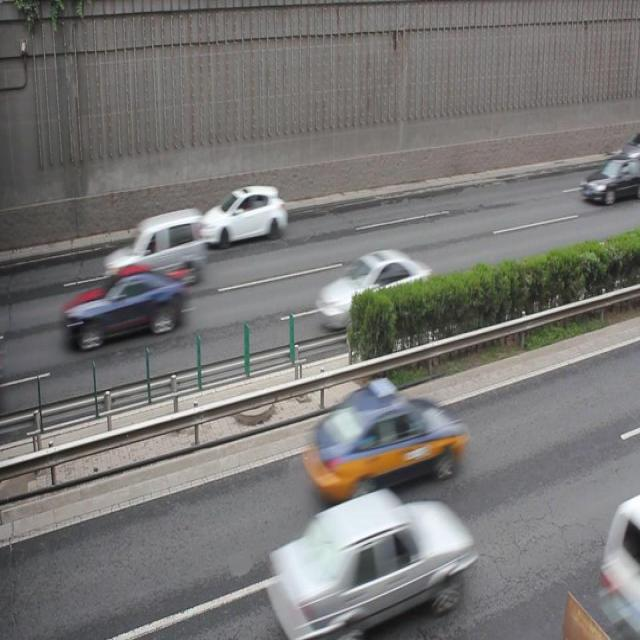car: (264, 484, 472, 640), (304, 382, 467, 496), (66, 262, 188, 347), (316, 248, 432, 332), (102, 207, 206, 287), (198, 188, 286, 245), (578, 154, 640, 204)
